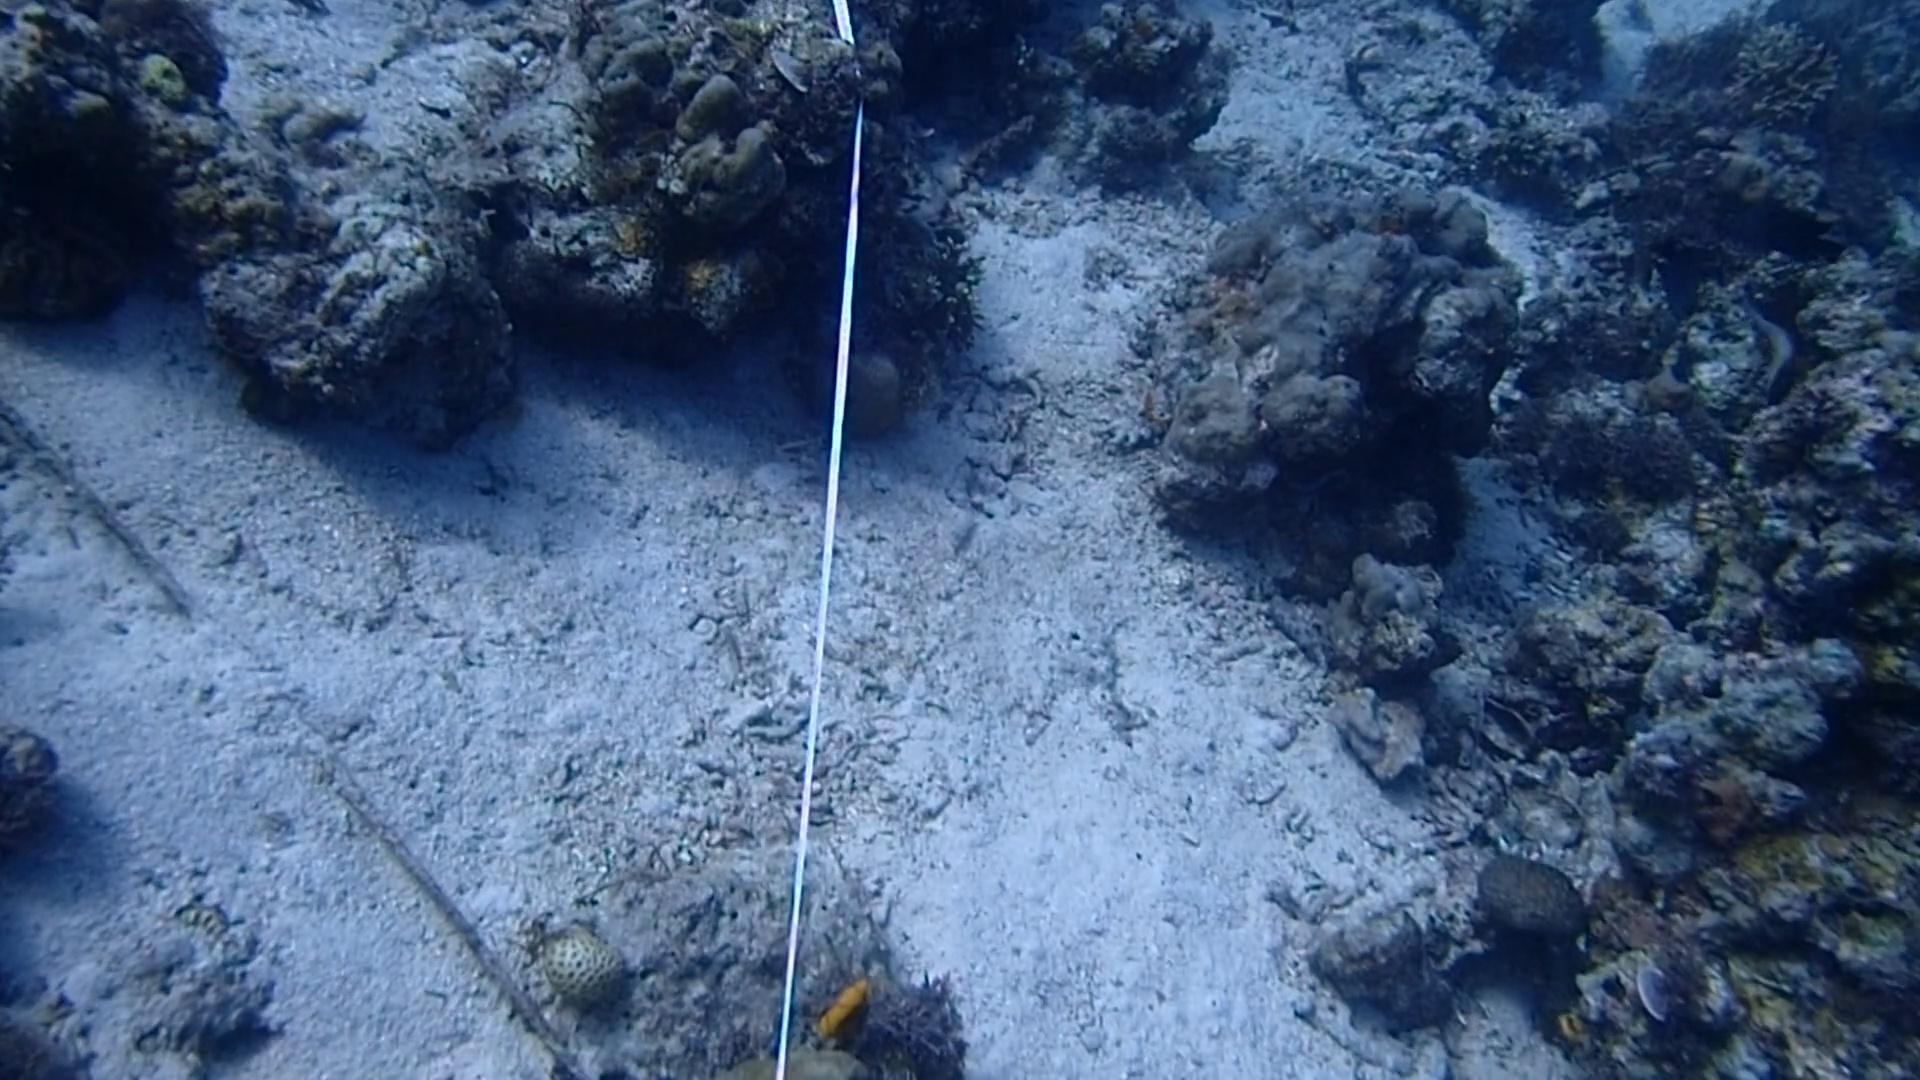Dark Fish: (1731, 193, 1844, 276), (1648, 223, 1710, 331)
